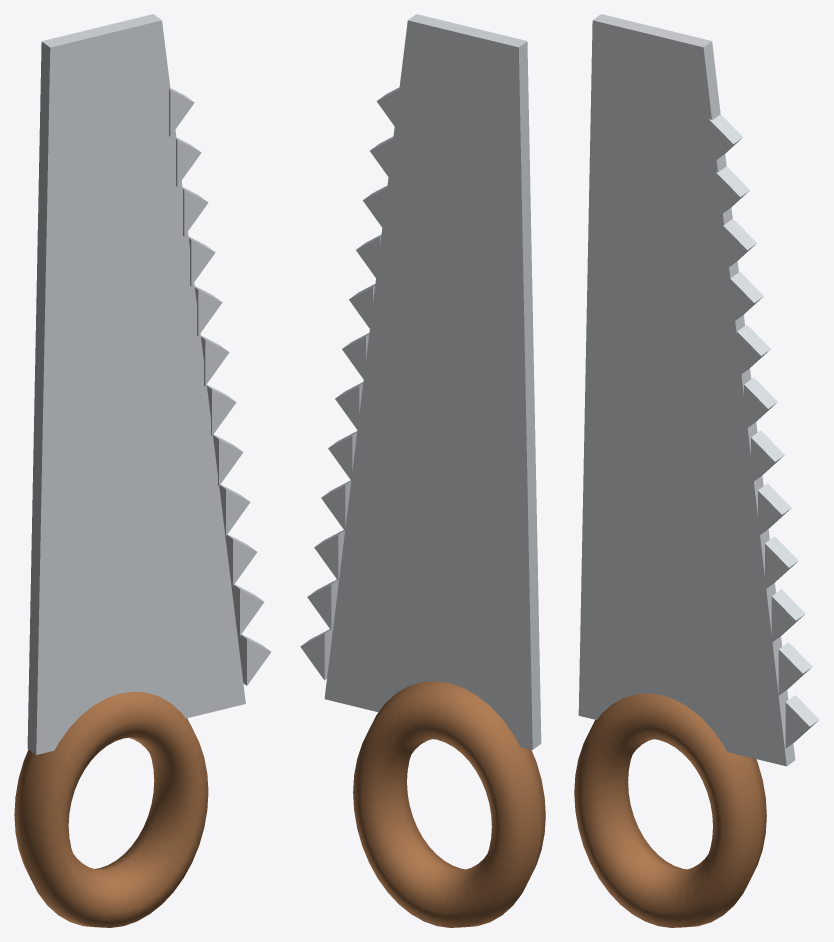
The model's file is wp-scie-a-main.glb.
3 views of the same model, side by side, from view 1: azimuth 30°, elevation 25°; view 2: azimuth 150°, elevation 25°; view 3: azimuth 330°, elevation 25° (orthographic).
Parts seen in each view (by area): view 1: wp-scie-a-main; view 2: wp-scie-a-main; view 3: wp-scie-a-main.
Part boxes in pixels (x1,y1,x2,y2): wp-scie-a-main: [14, 14, 270, 927]; wp-scie-a-main: [300, 14, 545, 927]; wp-scie-a-main: [574, 14, 819, 927].
Bounding box in the file's own units: 0.14 × 0.5 × 0.035.
